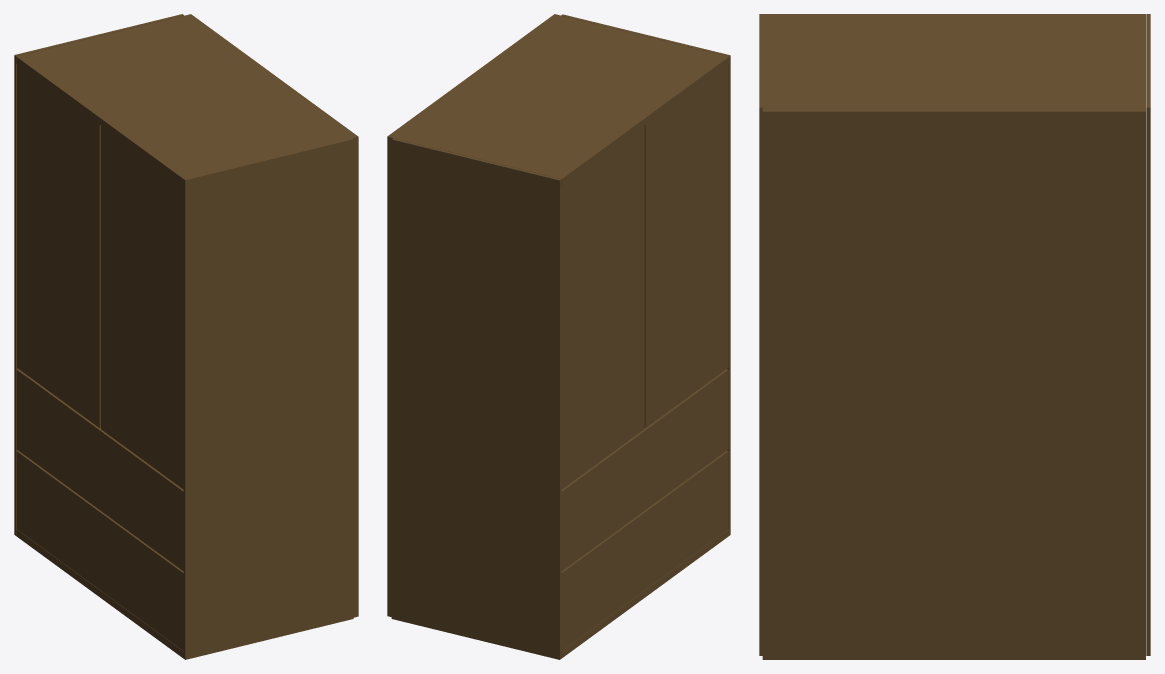
Rendered from bosses office kleding kast.fbx.
3 renders of one model, left to right at view 1: azimuth 30°, elevation 25°; view 2: azimuth 150°, elevation 25°; view 3: azimuth 270°, elevation 25°, orthographic. The views are drawn at different scales.
Parts seen in each view (by area): view 1: Cube.085, Cube.084, Cube.083, Cube.082, Cube.080, Cube.079, Cube.078, Cube.086, Cube.081; view 2: Cube.086, Cube.084, Cube.082, Cube.083, Cube.080, Cube.079, Cube.078, Cube.085, Cube.081; view 3: Cube.078, Cube.084, Cube.086, Cube.085.
Part boxes in pixels (x1,y1,x2,y2): Cube.085: (183,138,353,659); Cube.084: (16,15,350,185); Cube.083: (17,64,100,428); Cube.082: (101,126,183,489); Cube.080: (16,369,183,570); Cube.079: (16,451,183,650); Cube.078: (185,14,358,617); Cube.086: (14,14,183,535); Cube.081: (16,529,183,658); Cube.086: (391,138,561,659); Cube.084: (394,16,729,185); Cube.082: (644,64,728,427); Cube.083: (561,126,644,489); Cube.080: (561,369,728,570); Cube.079: (561,450,728,650); Cube.078: (387,14,560,616); Cube.085: (561,14,730,535); Cube.081: (561,529,728,658); Cube.078: (762,108,1145,659); Cube.084: (763,14,1145,107); Cube.086: (1146,14,1150,655); Cube.085: (759,14,763,655).
Bounding box in the file's own units: 220 × 579 × 374.
